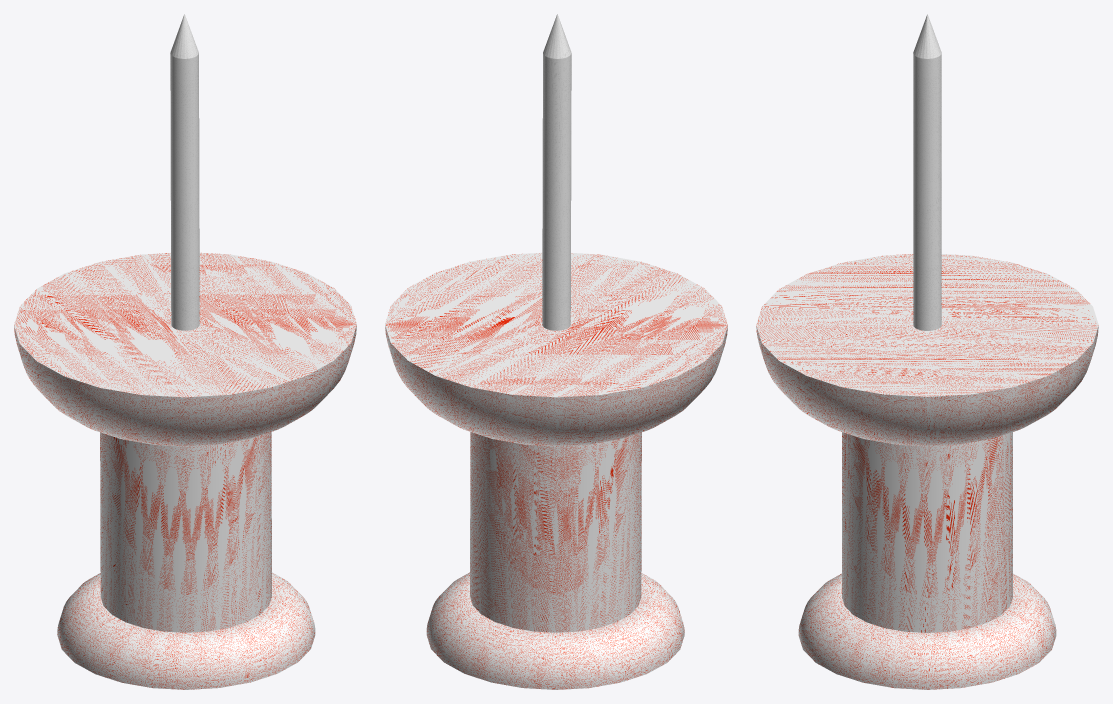
The model's file is pin.dae.
3 views of the same model, side by side, from view 1: azimuth 30°, elevation 25°; view 2: azimuth 150°, elevation 25°; view 3: azimuth 270°, elevation 25° (orthographic).
Parts seen in each view (by area): view 1: ID4, ID14; view 2: ID4, ID14; view 3: ID4, ID14.
Part boxes in pixels (<box>): ID4: <box>14,252,356,689</box>; ID14: <box>170,14,199,330</box>; ID4: <box>385,252,727,689</box>; ID14: <box>542,14,571,330</box>; ID4: <box>756,254,1098,689</box>; ID14: <box>913,14,941,330</box>.
Size of the model in its own units: 8.78 by 8.78 by 17.58.
